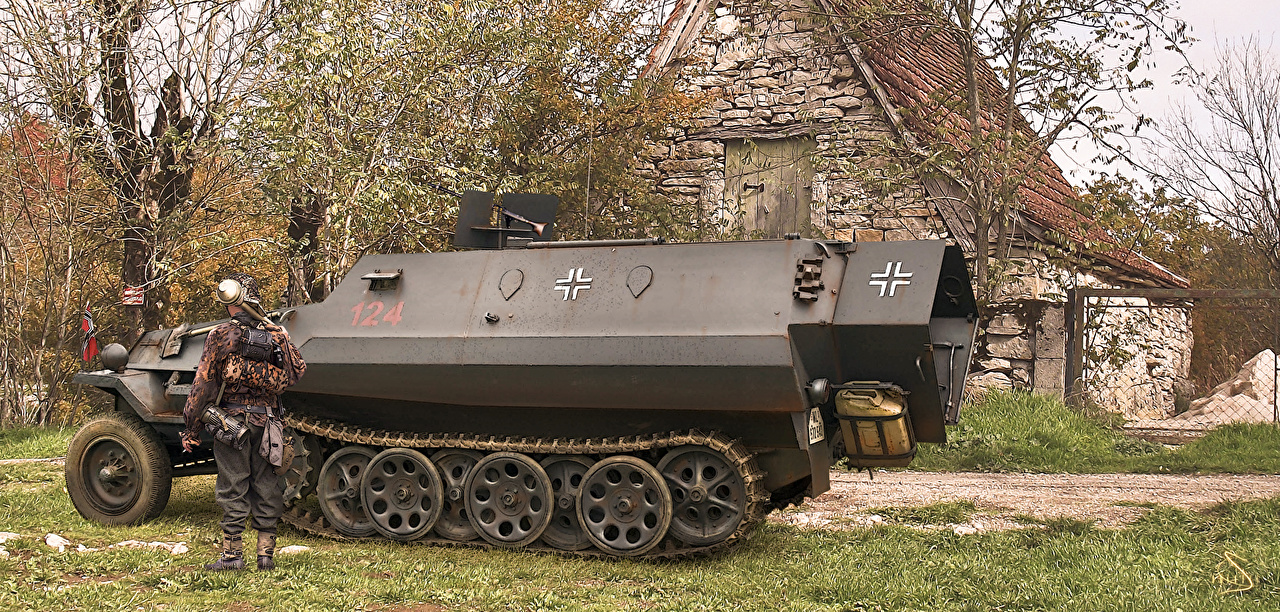btr: (92, 217, 979, 558)
human: (171, 272, 303, 581)
